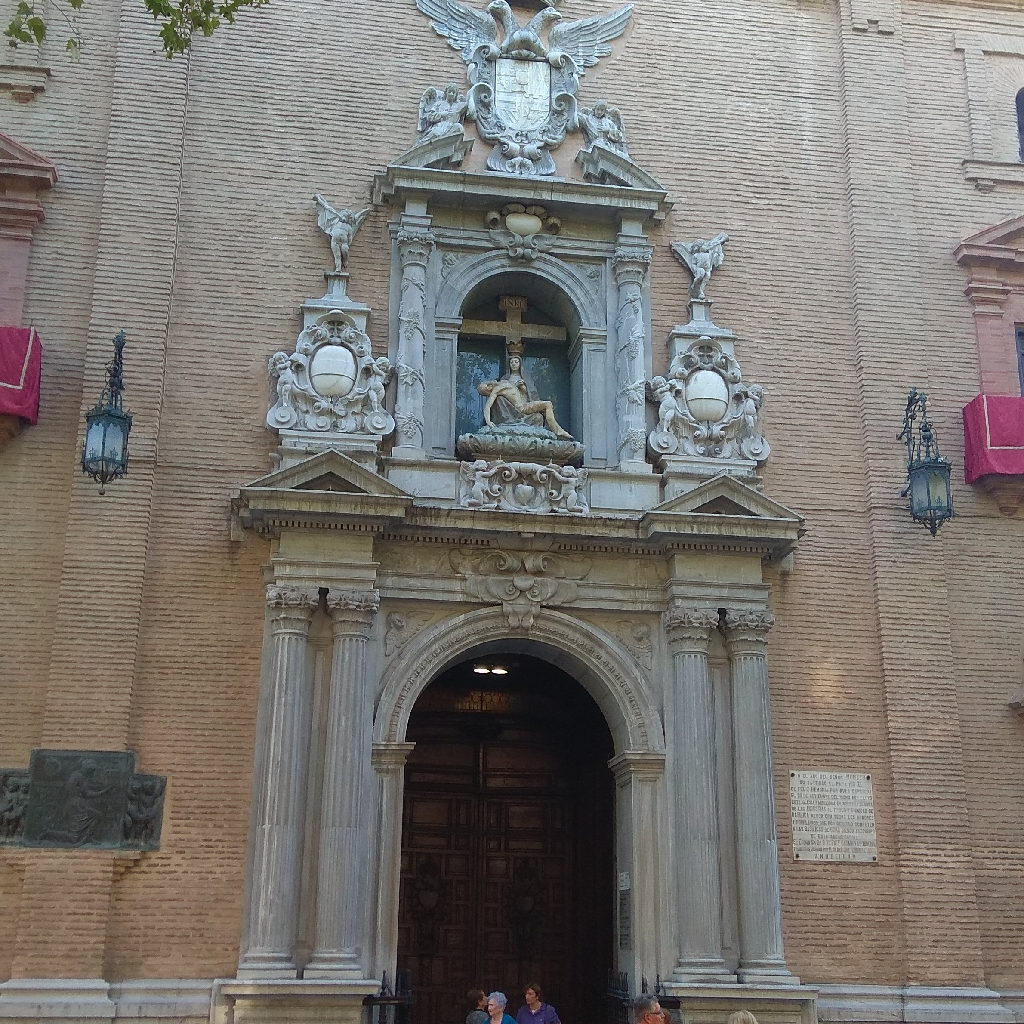arco-medio-punto: (394, 629, 644, 802), (447, 260, 593, 360)
fronton: (239, 447, 415, 516), (647, 473, 807, 537)
fronton-partido: (387, 128, 671, 208)
